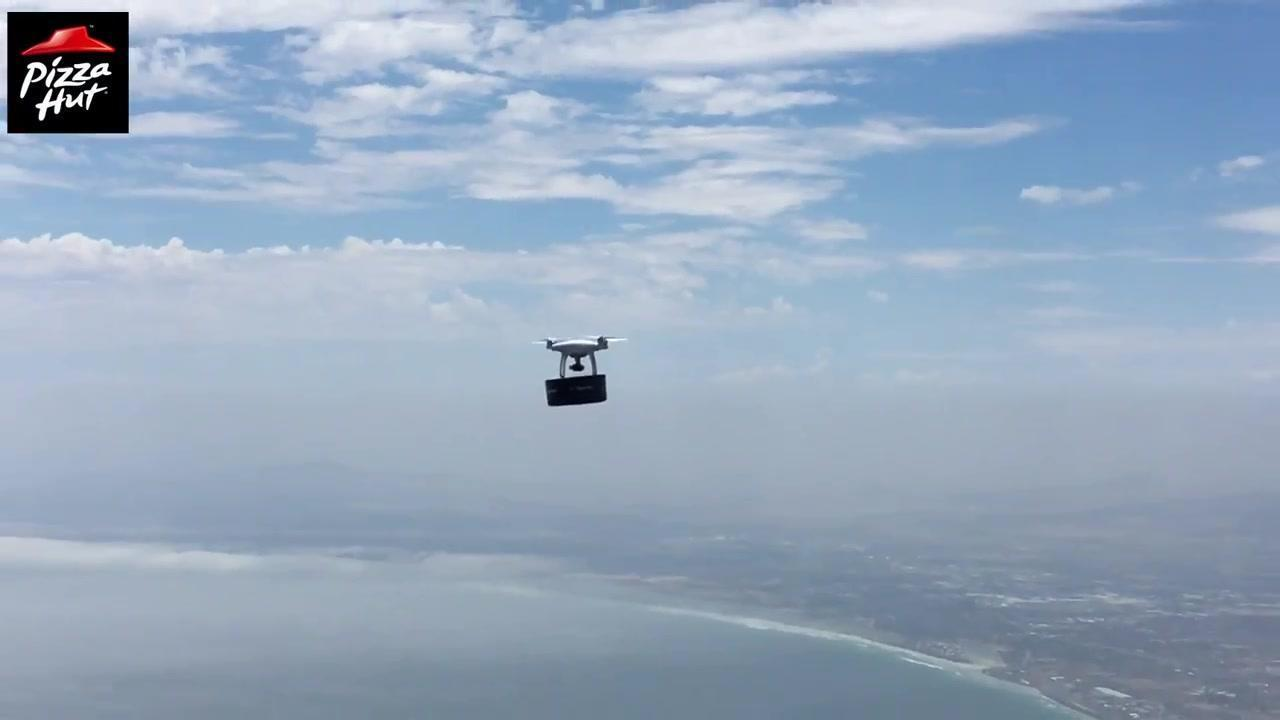UAV: (533, 337, 628, 379)
